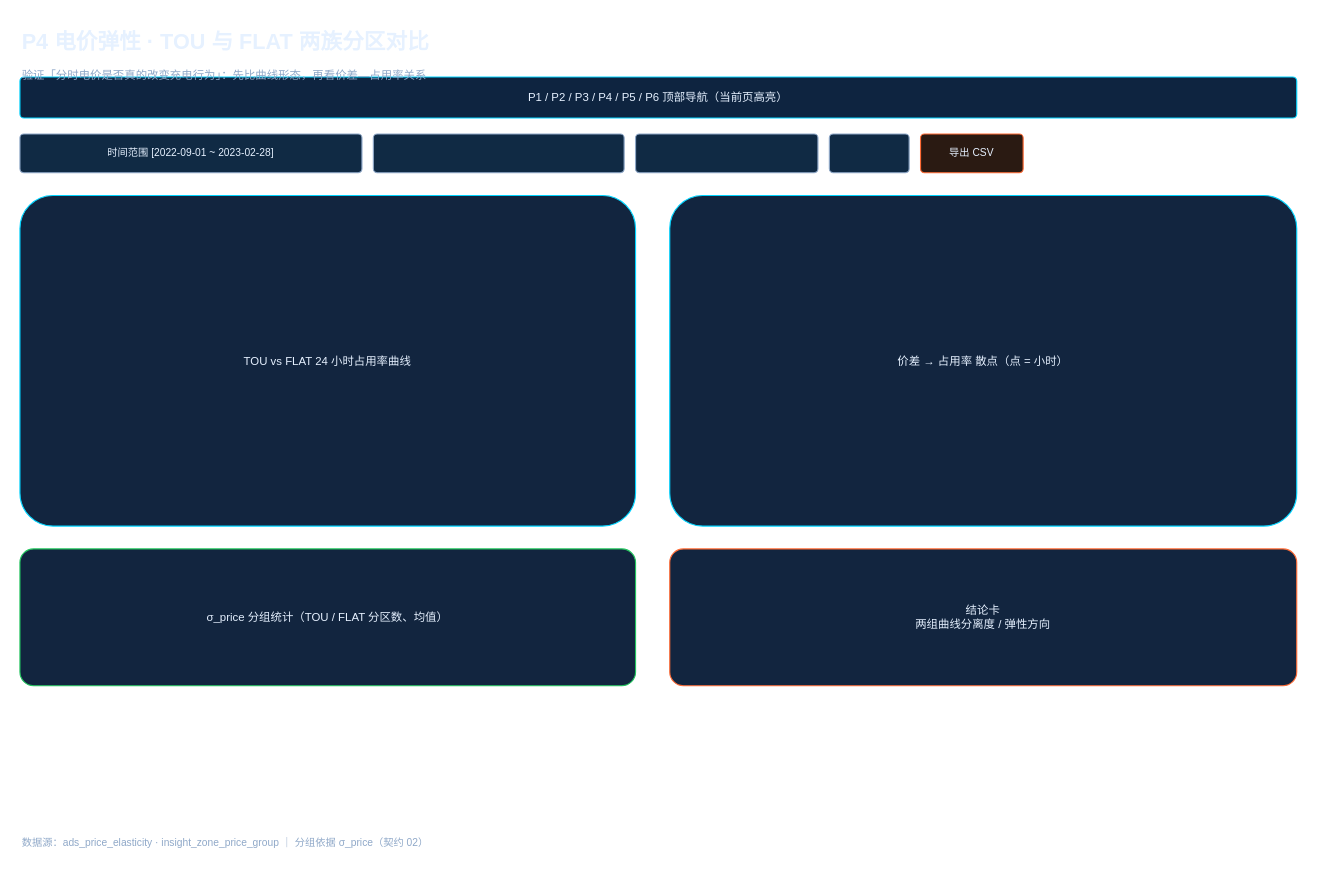
The diagram is 1340 pixels wide and 885 high, and some of its shapes have lost their labels. The centre of each missing label's shape, as x and y in pixels:
分区 [全部 / 多选]: the point at 498,153
小时 [0—23]: the point at 726,153
重置: the point at 868,153
